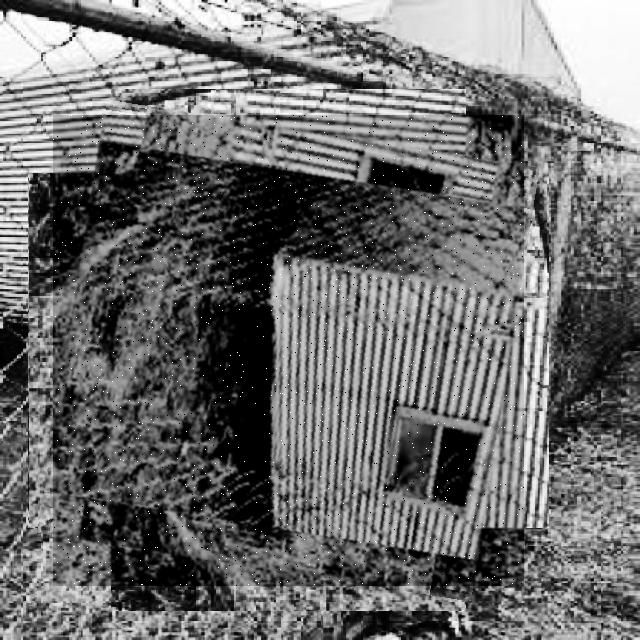anomaly-fence: (53, 115, 524, 586)
